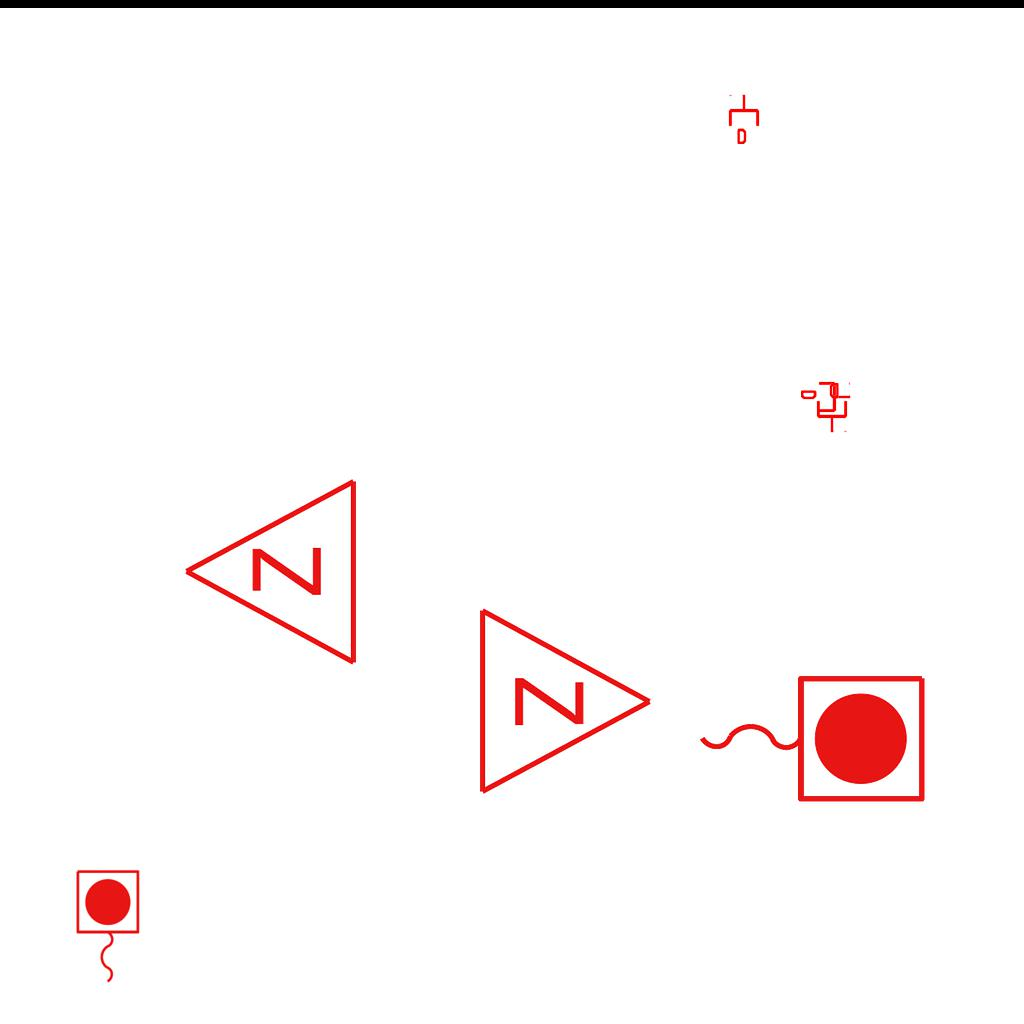Datenanschluss_einfach: (727, 94, 761, 144), (801, 380, 851, 414), (815, 383, 849, 433)
Zimmersignalleuchte: (465, 601, 665, 797), (171, 476, 371, 672)
Zugtaster: (689, 665, 933, 809), (71, 866, 143, 988)
